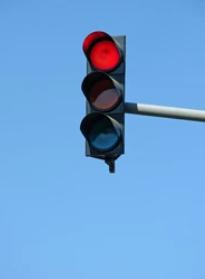red_light: (80, 31, 127, 161)
